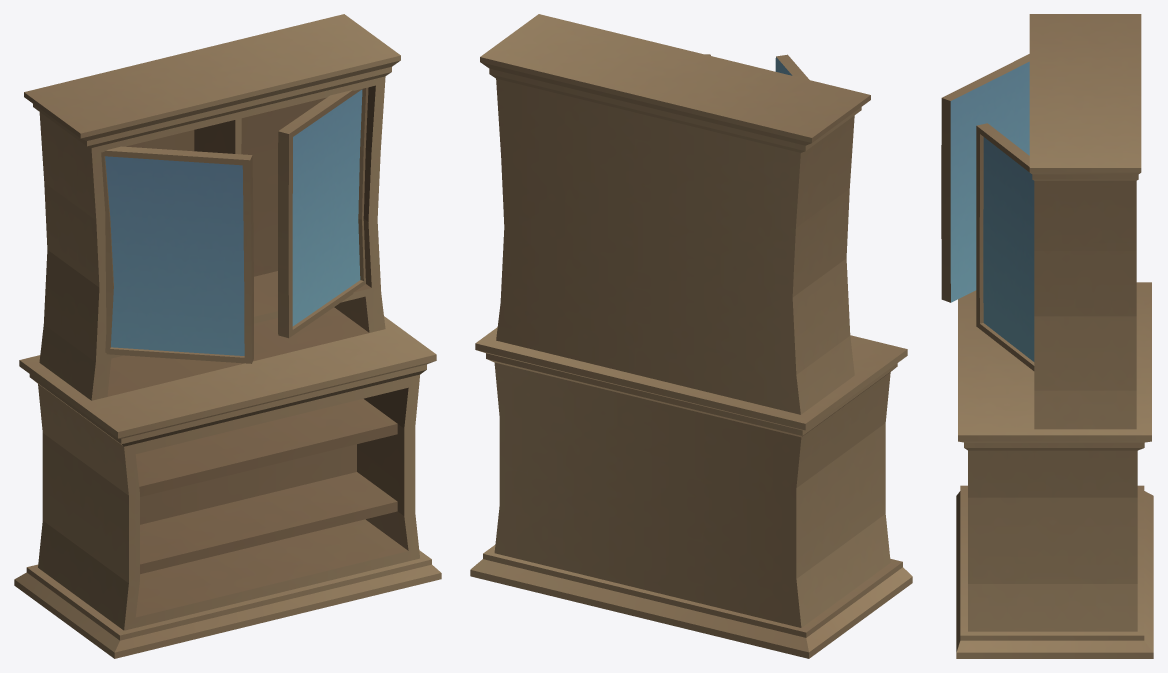
Rendered from cupboard_1b.dae.
3 views of the same model, side by side, from view 1: azimuth 30°, elevation 25°; view 2: azimuth 150°, elevation 25°; view 3: azimuth 270°, elevation 25° (orthographic). The views are drawn at different scales.
Visible parts, largest first — view 1: cupboard_1b, right_wing, left_wing; view 2: cupboard_1b; view 3: cupboard_1b, left_wing, right_wing.
Part boxes in pixels (x1,y1,x2,y2): cupboard_1b: (14, 14, 441, 658); right_wing: (101, 146, 253, 363); left_wing: (278, 87, 368, 338); cupboard_1b: (470, 14, 912, 658); cupboard_1b: (956, 14, 1153, 658); left_wing: (976, 123, 1034, 370); right_wing: (941, 54, 1029, 302).
Size of the model in its own units: 1.1 by 0.6291 by 1.6.
